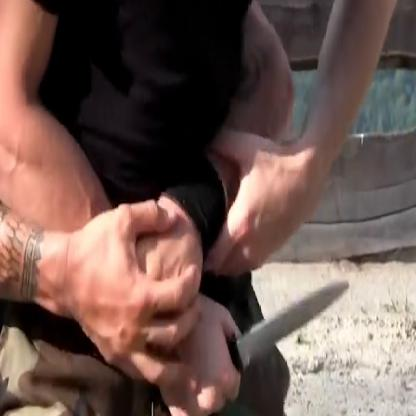knife: (167, 262, 355, 415)
